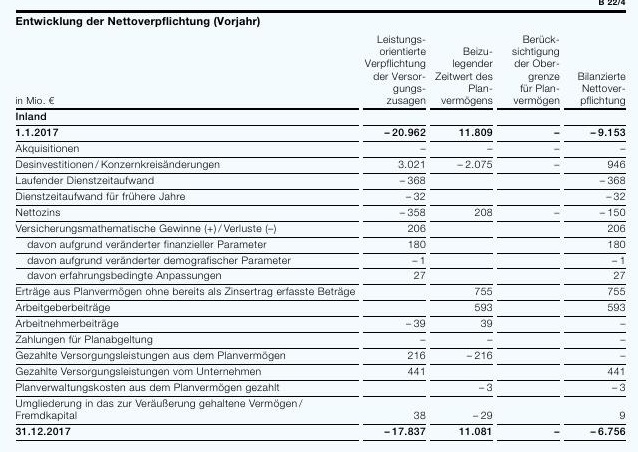table: (0, 0, 638, 452)
